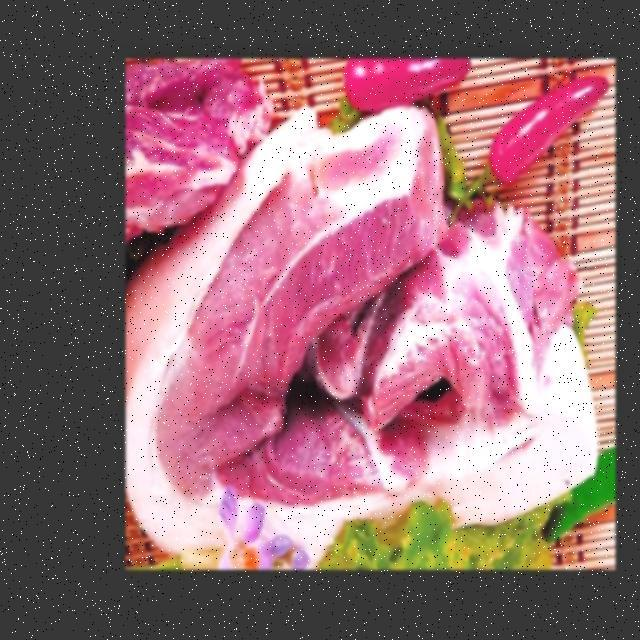pork: (126, 102, 597, 555), (124, 59, 270, 238)
